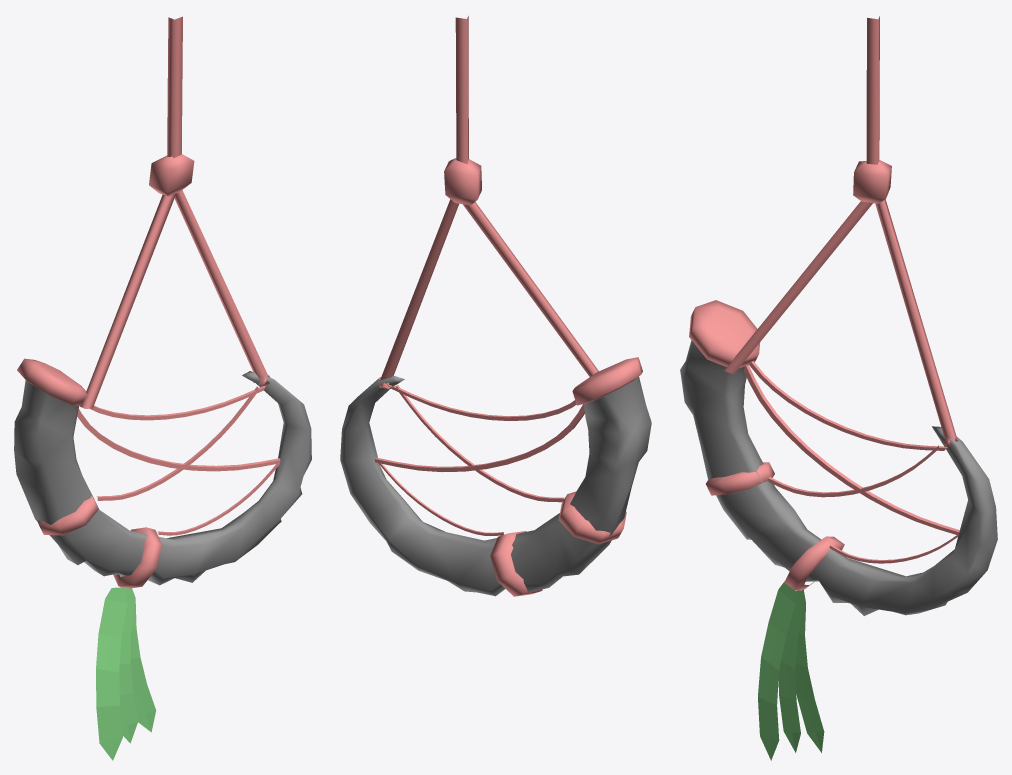
File: dreamcatcher_horn_village_A.gltf
3 views of the same model, side by side, from view 1: azimuth 30°, elevation 25°; view 2: azimuth 150°, elevation 25°; view 3: azimuth 330°, elevation 25° (orthographic). The views are drawn at different scales.
Visible parts, largest first — view 1: dreamcatcher_horn_village_A; view 2: dreamcatcher_horn_village_A; view 3: dreamcatcher_horn_village_A.
Boxes of the visible parts, <box> form: dreamcatcher_horn_village_A: <box>14,16,311,760</box>; dreamcatcher_horn_village_A: <box>340,16,651,596</box>; dreamcatcher_horn_village_A: <box>680,16,997,760</box>.
Size of the model in its own units: 0.5993 by 1.41 by 0.1383.
